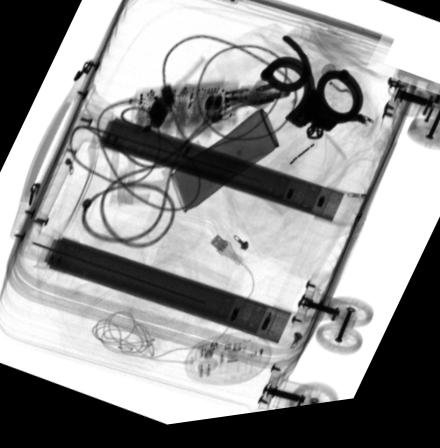HandCuffs: (259, 41, 365, 149)
